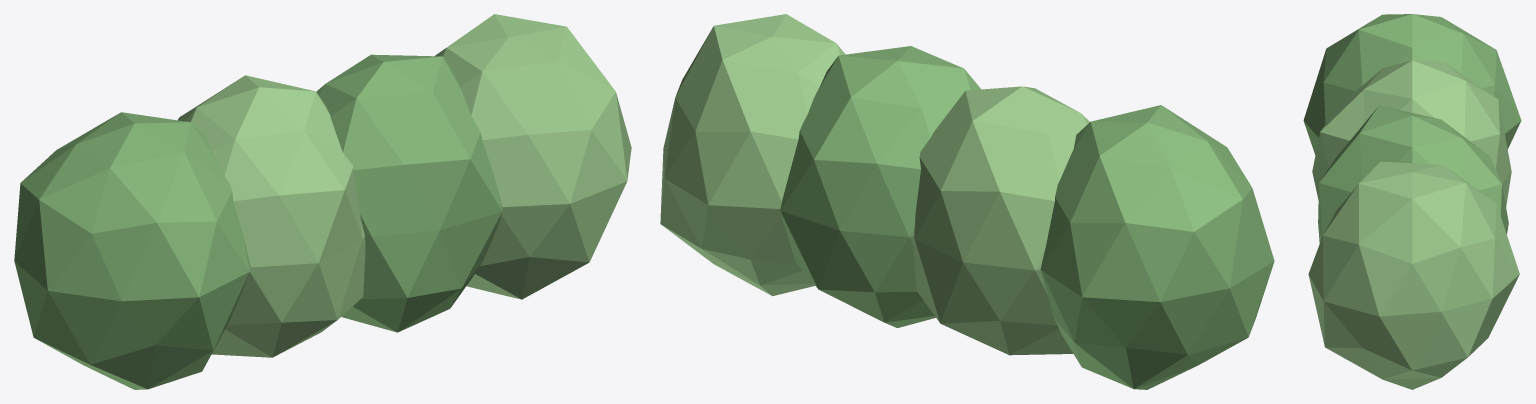
File: hedge.glb
3 renders of one model, left to right at view 1: azimuth 30°, elevation 25°; view 2: azimuth 150°, elevation 25°; view 3: azimuth 270°, elevation 25°, orthographic. The views are drawn at different scales.
Parts seen in each view (by area): view 1: hedge; view 2: hedge; view 3: hedge.
Boxes of the visible parts, x1,y1,x2,y2 form: hedge: (14, 14, 631, 389); hedge: (660, 14, 1274, 389); hedge: (1303, 14, 1521, 389).
Size of the model in its own units: 2.35 by 1.04 by 0.9001.
